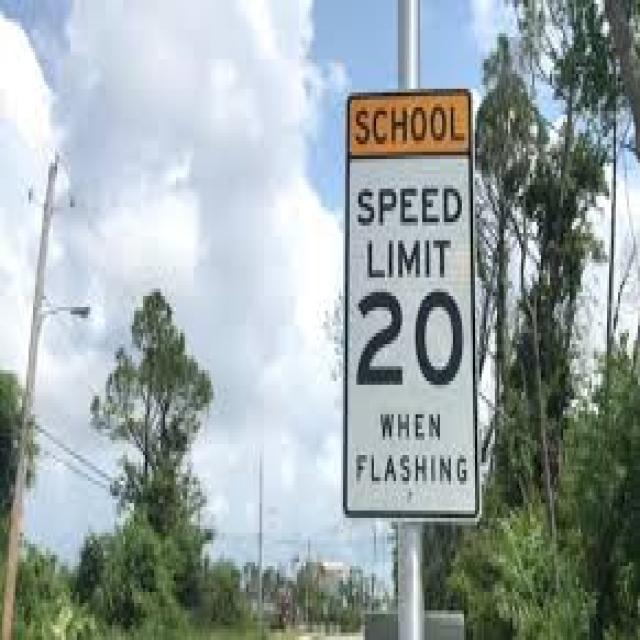speedLimit20: (352, 163, 475, 403)
